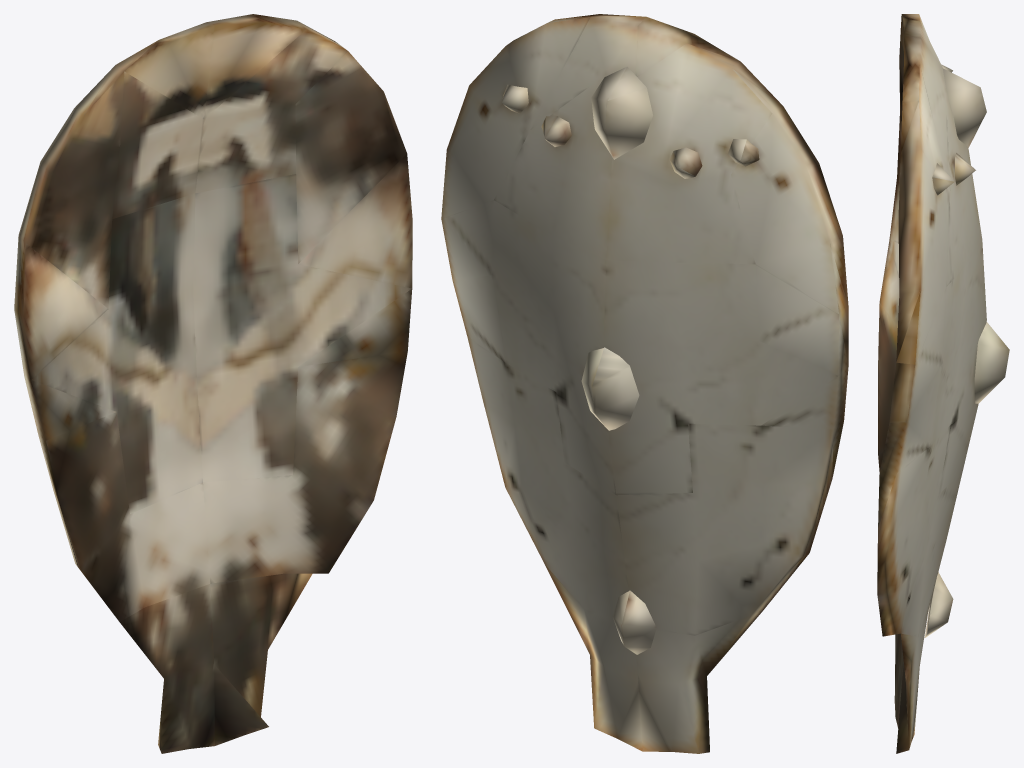
The model's file is shell-spine.glb.
The picture shows the model from 3 angles, left to right: view 1: azimuth 30°, elevation 25°; view 2: azimuth 150°, elevation 25°; view 3: azimuth 270°, elevation 25°; orthographic projection. The views are drawn at different scales.
Parts seen in each view (by area): view 1: shell-spine; view 2: shell-spine; view 3: shell-spine.
Part boxes in pixels (bbox=[...]): shell-spine: bbox=[14, 14, 412, 753]; shell-spine: bbox=[441, 14, 848, 753]; shell-spine: bbox=[877, 14, 1009, 753].
Size of the model in its own units: 0.5645 by 0.9932 by 0.1699.
1 material, 1 textured.
